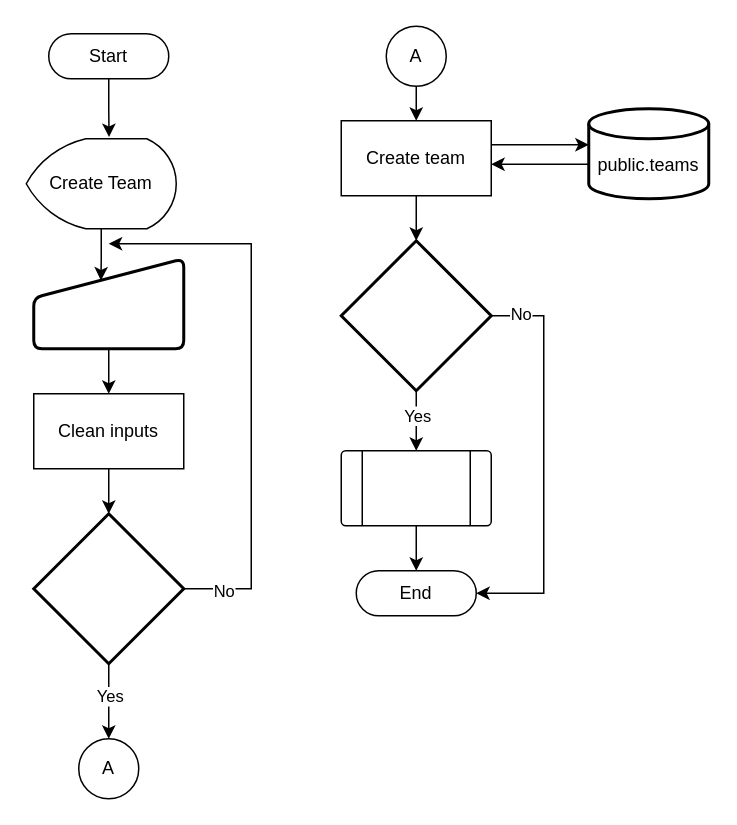
Some shapes in this 737 by 825 pixel diagram are drawn without their labels. Each missing label, with the centre of its shape:
"Are inputs valid?" goes at (x=108, y=588).
"Input required information" goes at (x=108, y=303).
"Send invites" goes at (x=415, y=487).
"Team created successfully?" goes at (x=415, y=315).
